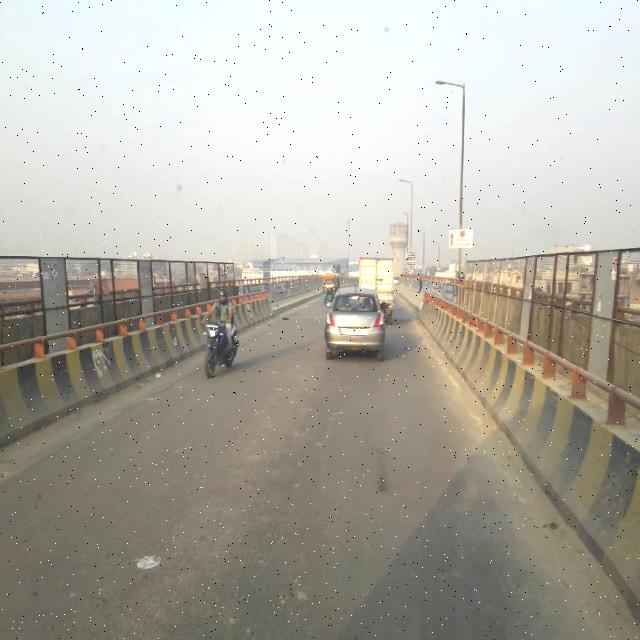D44: (436, 360, 548, 532)
